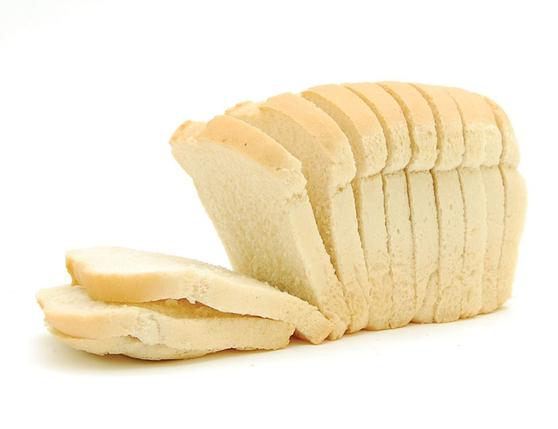white_bread: (296, 88, 525, 332)
